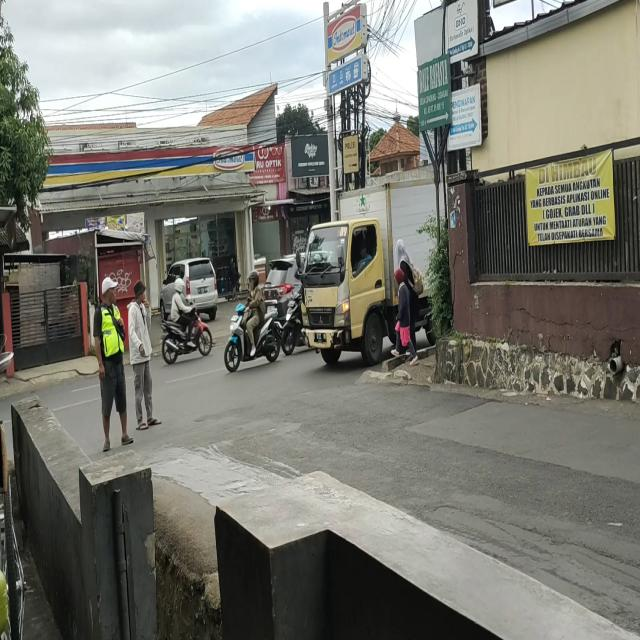helmet: (248, 272, 260, 287), (175, 280, 186, 292)
